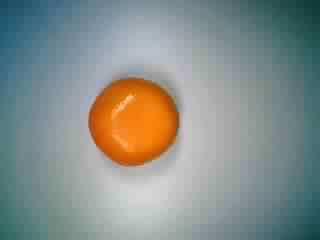orange: (87, 68, 182, 170)
